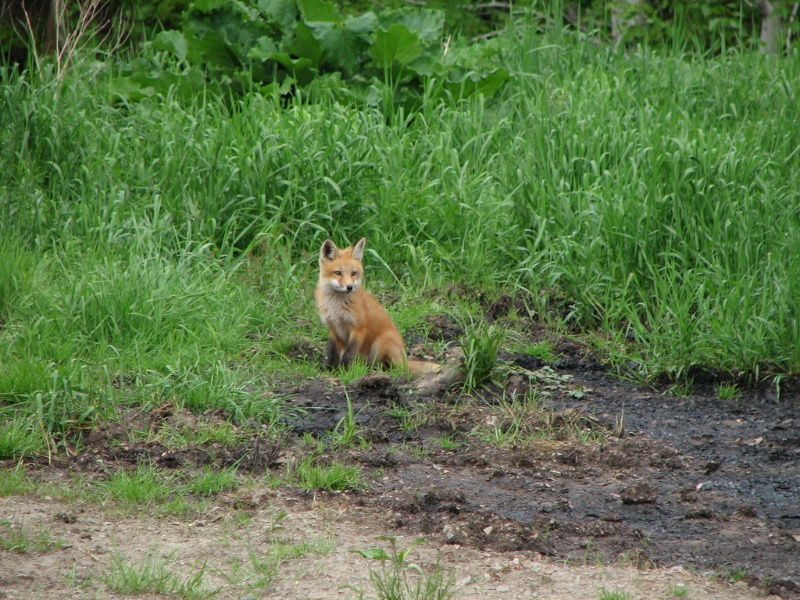fox: (313, 236, 450, 383)
